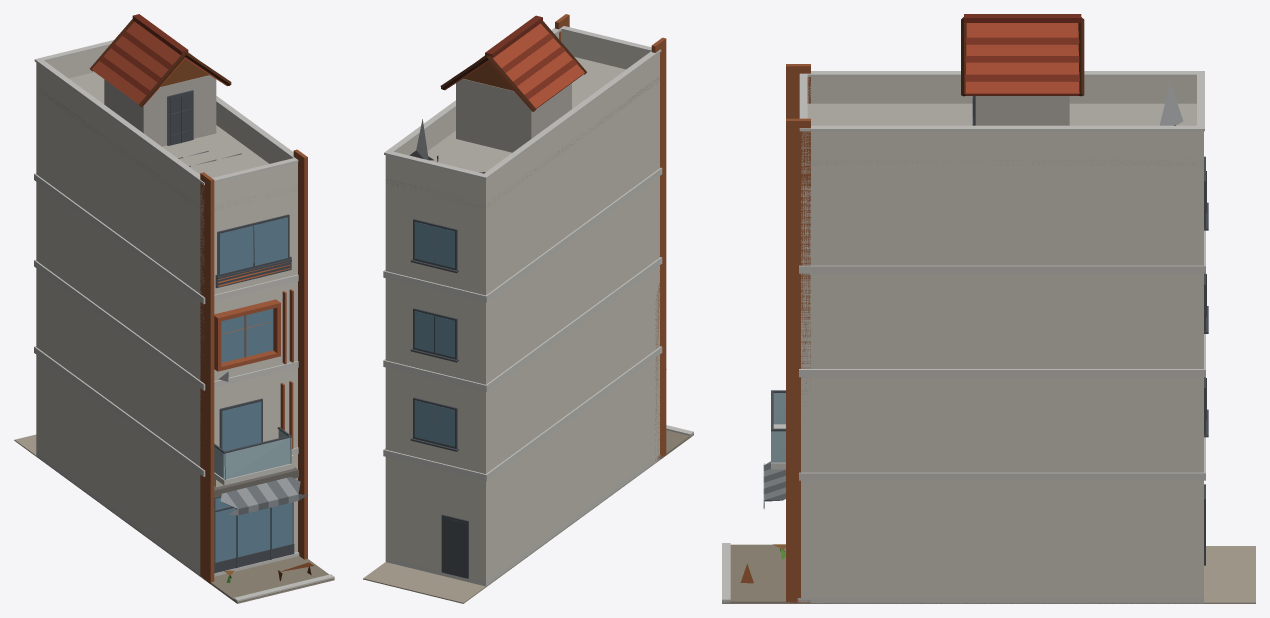
File: bay2_mid2.glb
3 views of the same model, side by side, from view 1: azimuth 30°, elevation 25°; view 2: azimuth 150°, elevation 25°; view 3: azimuth 270°, elevation 25° (orthographic). The views are drawn at different scales.
Visible parts, largest first — view 1: body; view 2: body; view 3: body.
Boxes of the visible parts, box(x1,y1,x2,y2) form: body: box(14, 14, 334, 603); body: box(363, 14, 693, 603); body: box(722, 14, 1255, 603).
Size of the model in its own units: 4.12 by 18.77 by 15.9.
